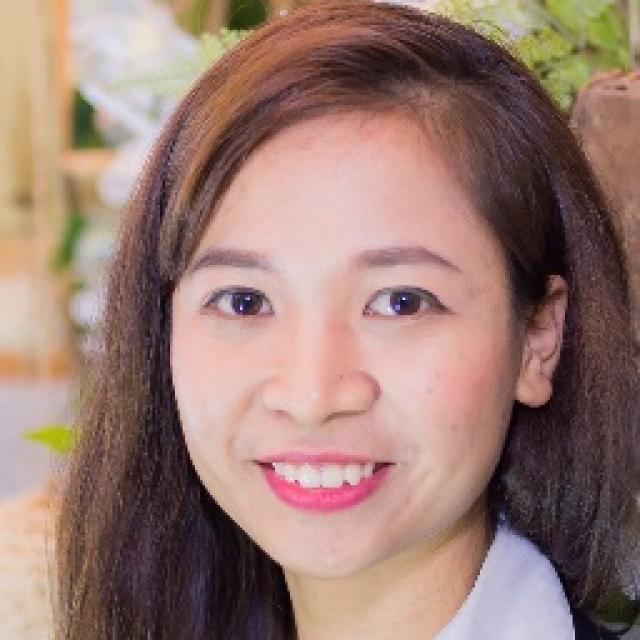earlobe: (515, 273, 569, 406)
